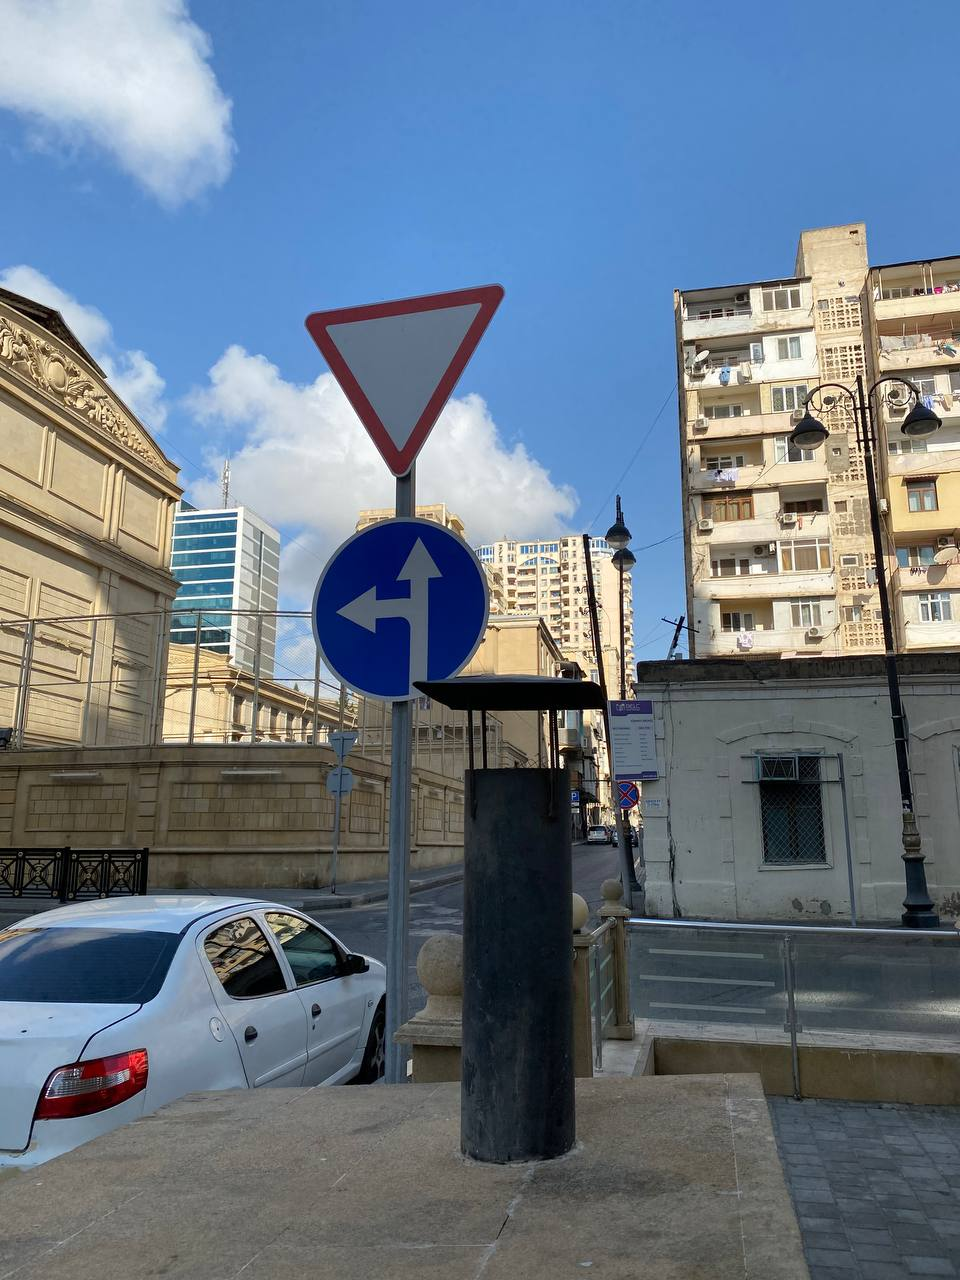Give Way: (306, 283, 504, 477)
Straight or Left: (310, 516, 489, 702)
